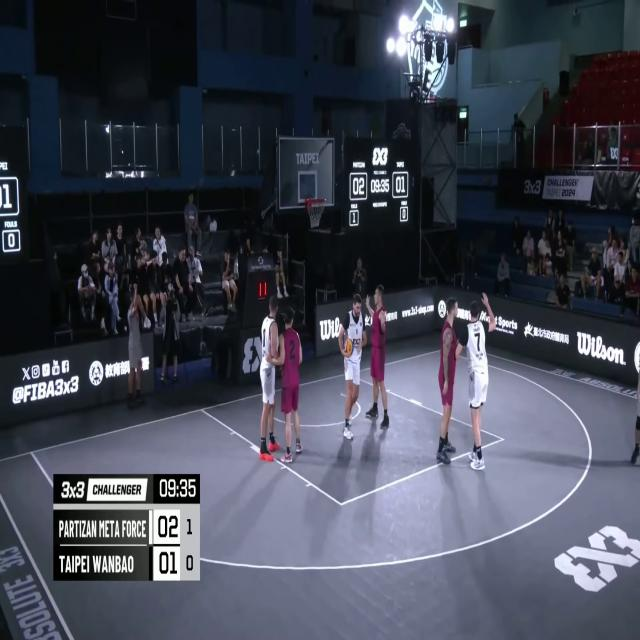ball: (342, 334, 353, 356)
hoop: (306, 196, 328, 231)
player: (451, 294, 493, 472), (340, 292, 368, 444), (260, 293, 285, 462), (436, 298, 460, 468), (365, 284, 389, 430), (280, 307, 302, 464)
